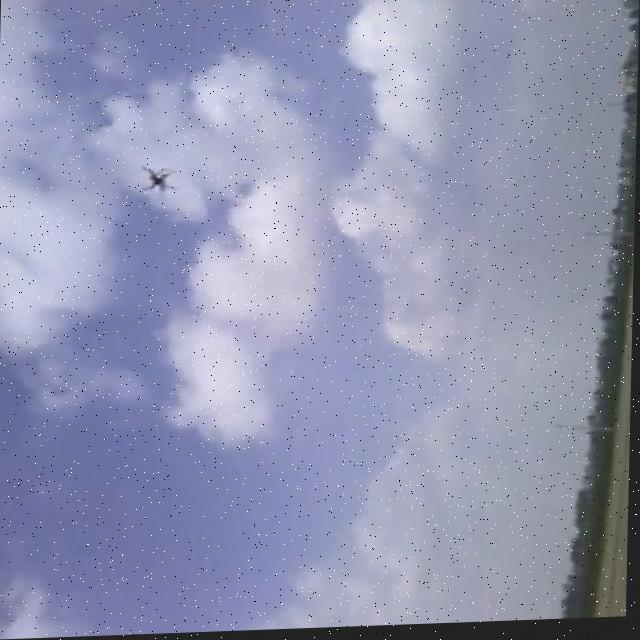drone: (136, 163, 178, 196)
